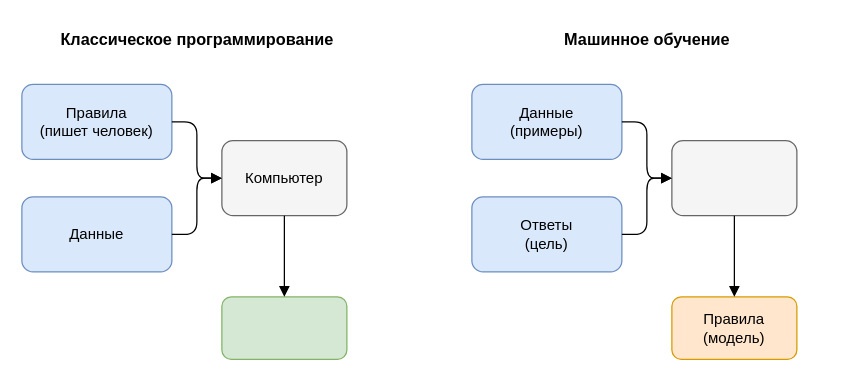
Image size: 844x381. Some labels were removed from this diagram. Here are the shapes that lost their labels. From the top down, the box of each, then its label:
(671, 139, 797, 216): Компьютер (обучение)
(221, 296, 347, 359): Ответ
